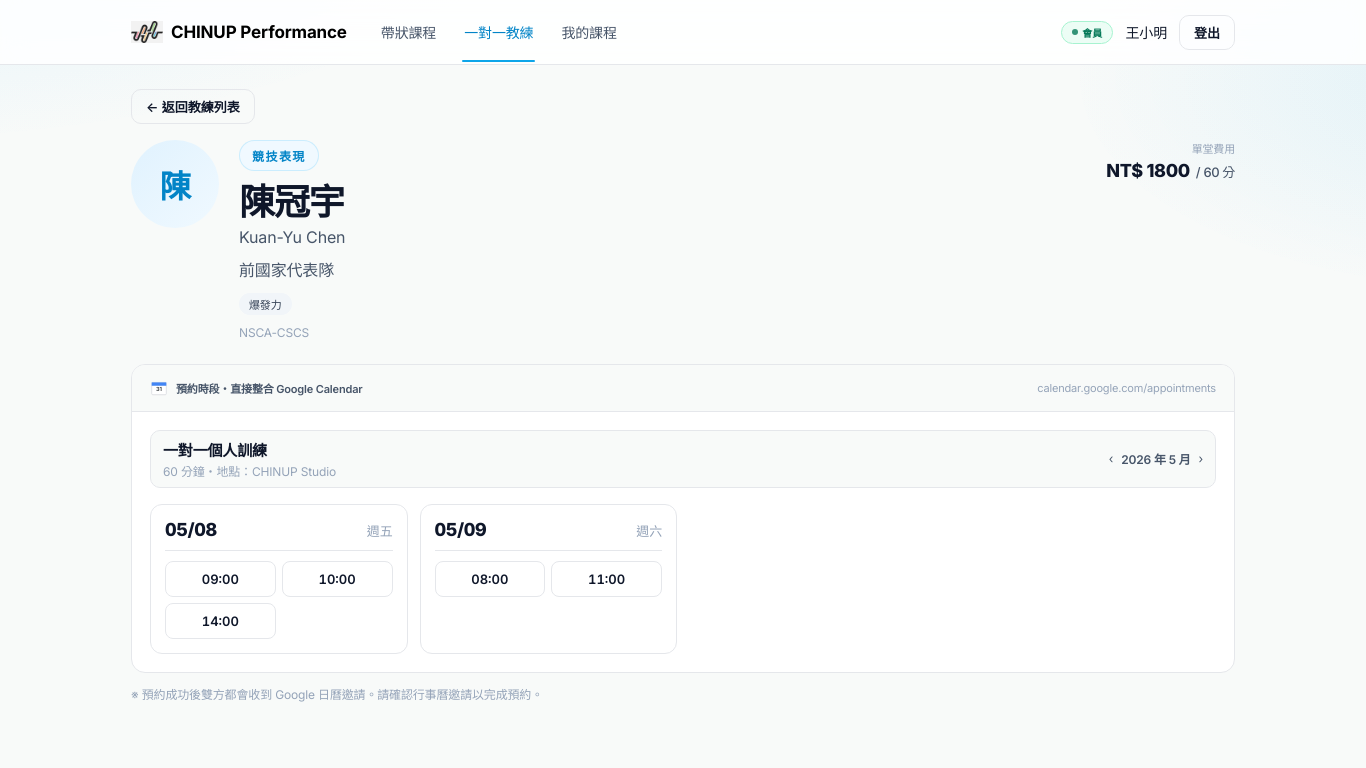
Test: Coach booking flow › selects a slot and shows confirm panel
The width and height of the screenshot is (1366, 768).
Step 1. Click the button "14:00" → [220, 621], box x1=165 y1=603 x2=276 y2=639
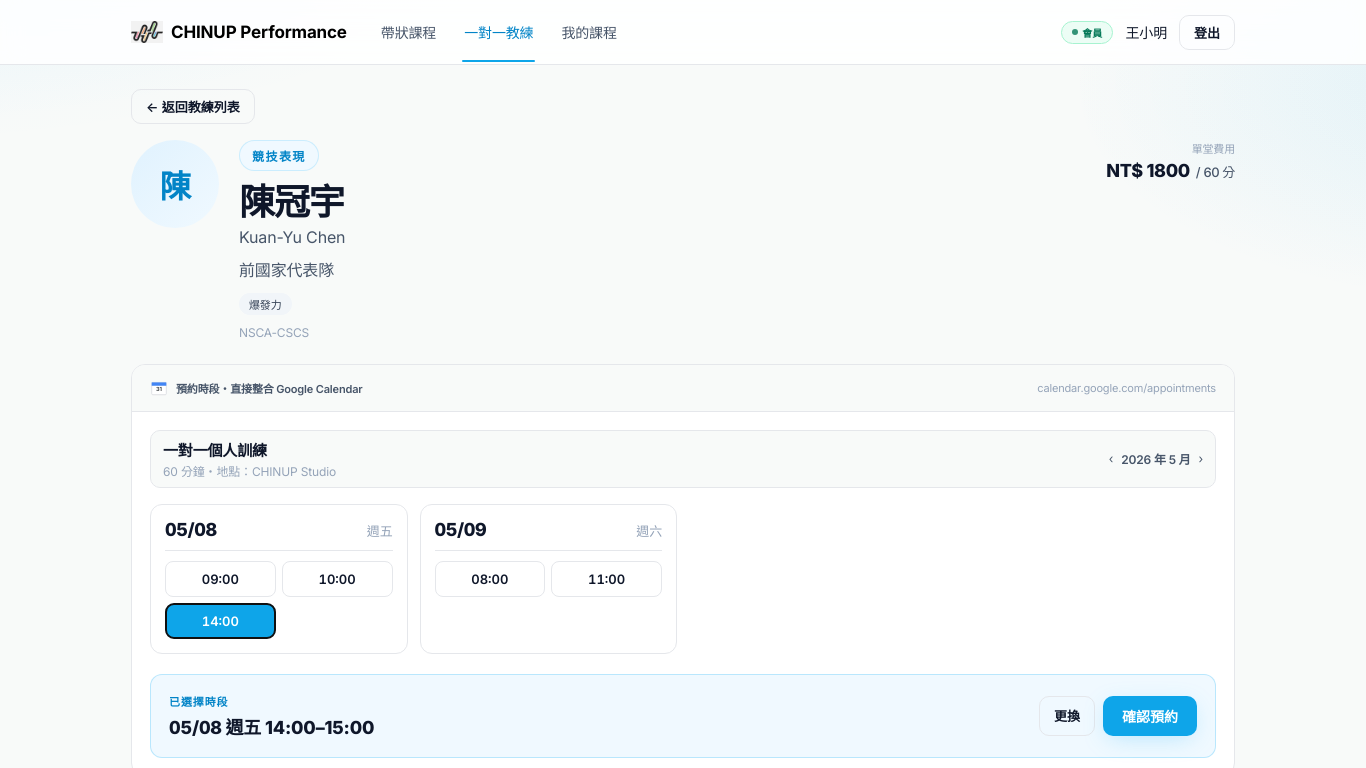
Result: the text "已選擇時段" is shown at x1=169 y1=695 x2=228 y2=709
Result: the text "05/08 週五 14:00–15:00" is shown at x1=169 y1=713 x2=374 y2=739
Result: the button "確認預約" is shown at x1=1103 y1=696 x2=1197 y2=736
